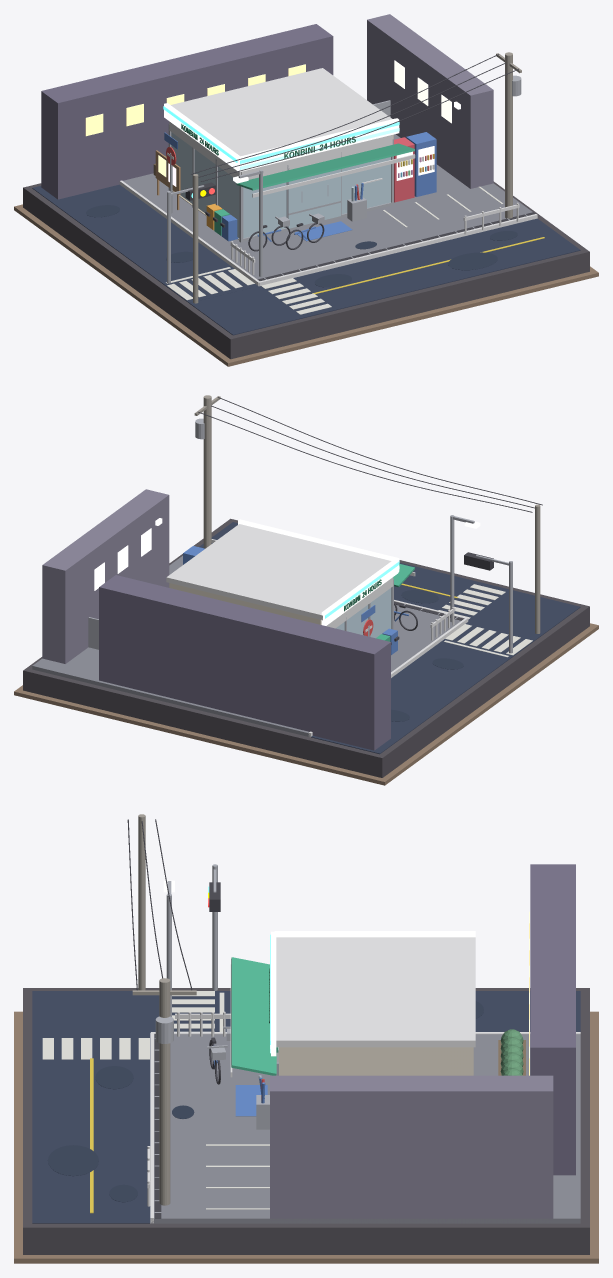
File: rainy-konbini.glb
The picture shows the model from 3 angles, top to bottom: view 1: azimuth 30°, elevation 25°; view 2: azimuth 150°, elevation 25°; view 3: azimuth 270°, elevation 25°; orthographic projection. The views are drawn at different scales.
Parts seen in each view (by area): view 1: BackBuilding, Base, RoadFront, NeighborWall, Sidewalk, Roof, RoadLeft, BaseTrim, LeftGlass, Awning, FrontGlass1, FrontGlass0 (+20 smaller); view 2: BackBuilding, Base, Roof, NeighborWall, RoadLeft, RoadFront, BaseTrim, Sidewalk, UtilPole, LeftGlass, SignBoardL, SignBoard (+4 smaller); view 3: NeighborWall, Base, RoadFront, Roof, Sidewalk, BackBuilding, BaseTrim, RightWall, Awning, RoadLeft, UtilPole, SignBoardL (+7 smaller).
Boxes of the visible parts, box(x1,y1,x2,y2) form: BackBuilding: box(41, 24, 333, 199); Base: box(23, 181, 589, 359); RoadFront: box(189, 218, 580, 335); NeighborWall: box(367, 14, 493, 188); Sidewalk: box(123, 134, 532, 279); Roof: box(171, 68, 392, 156); RoadLeft: box(32, 184, 257, 303); BaseTrim: box(14, 204, 598, 366); LeftGlass: box(171, 132, 239, 237); Awning: box(236, 143, 414, 190); FrontGlass1: box(341, 157, 390, 214); FrontGlass0: box(243, 182, 286, 238); BackBuilding: box(99, 575, 390, 750); Base: box(23, 518, 589, 777); Roof: box(166, 524, 391, 620); NeighborWall: box(42, 489, 169, 663); RoadLeft: box(311, 621, 536, 754); RoadFront: box(199, 522, 580, 638); BaseTrim: box(14, 623, 598, 785); Sidewalk: box(32, 556, 461, 736); UtilPole: box(203, 395, 211, 548); LeftGlass: box(335, 588, 391, 638); SignBoardL: box(321, 559, 398, 625); SignBoard: box(238, 519, 399, 571); NeighborWall: box(270, 1075, 553, 1223); Base: box(23, 988, 589, 1254); RoadFront: box(32, 991, 150, 1223); Roof: box(276, 937, 475, 1047); Sidewalk: box(151, 1034, 580, 1223); BackBuilding: box(530, 864, 575, 1175); BaseTrim: box(14, 1011, 598, 1263); RightWall: box(279, 1047, 470, 1075); Awning: box(231, 957, 276, 1075); RoadLeft: box(151, 991, 580, 1031); UtilPole: box(159, 978, 170, 1205); SignBoardL: box(274, 931, 475, 937).
Bounding box in the file's own units: 12.8 × 6.28 × 12.8.
